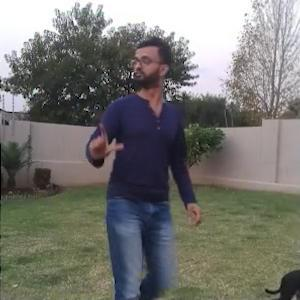land_hand: (84, 118, 128, 162)
